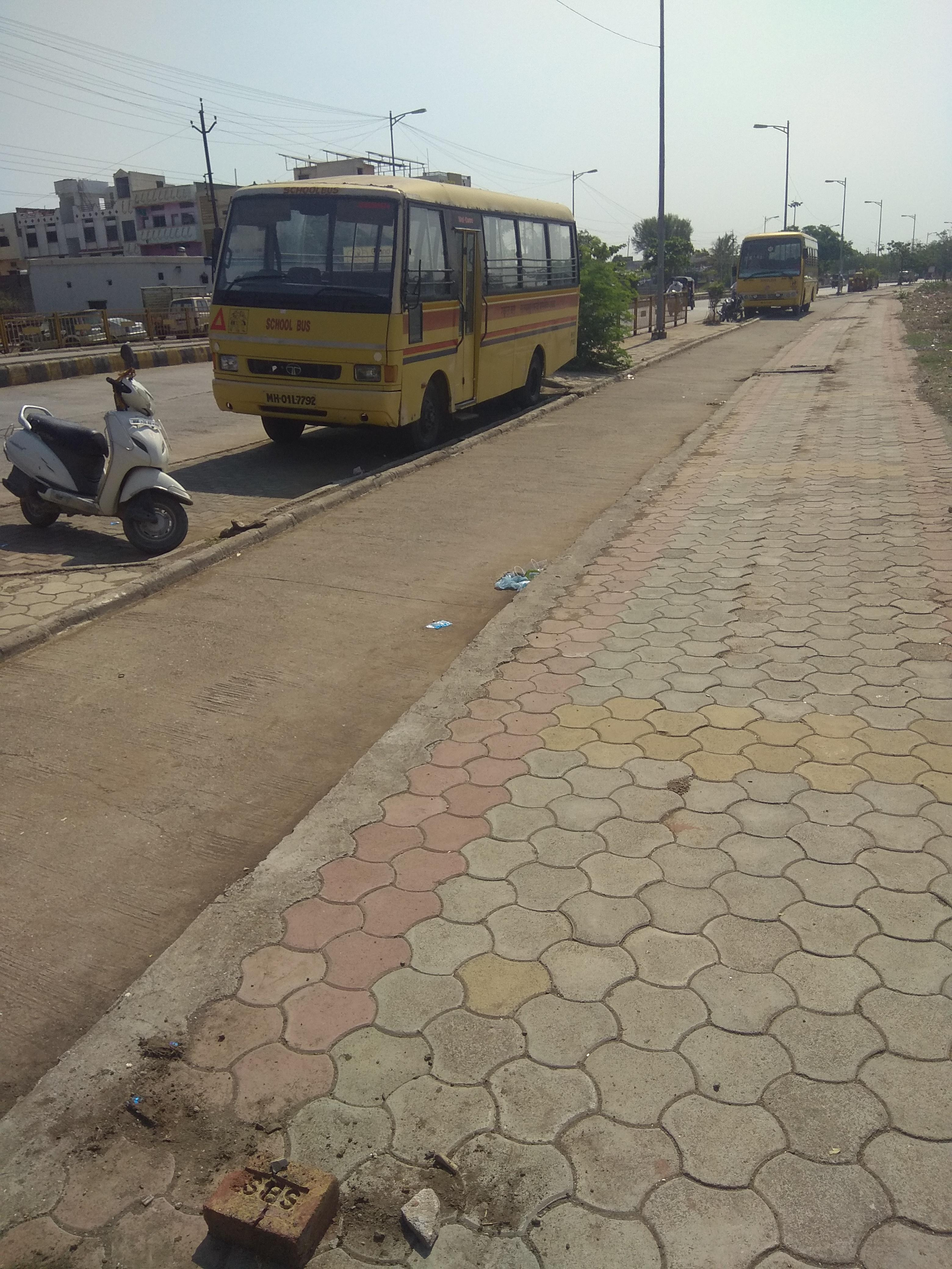non-ambulance: (160, 83, 648, 464)
